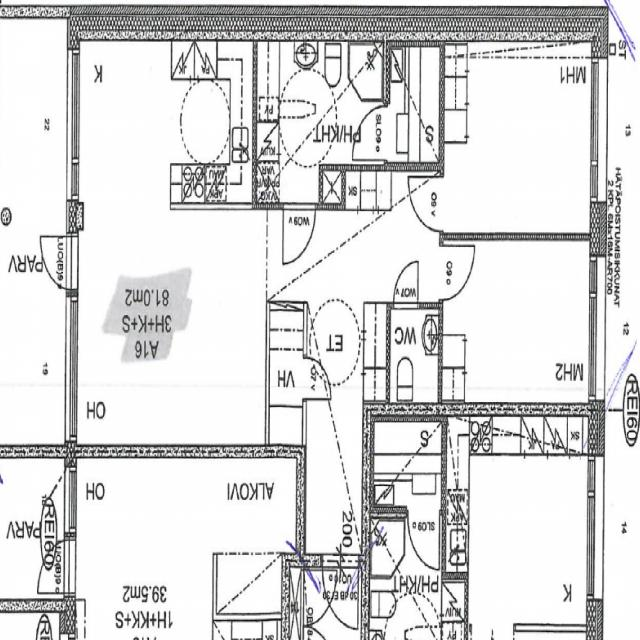door: (322, 553, 358, 628), (36, 235, 79, 288), (283, 202, 315, 264), (351, 106, 388, 159), (438, 247, 475, 299), (407, 178, 444, 230), (392, 260, 418, 308), (302, 357, 330, 398)
